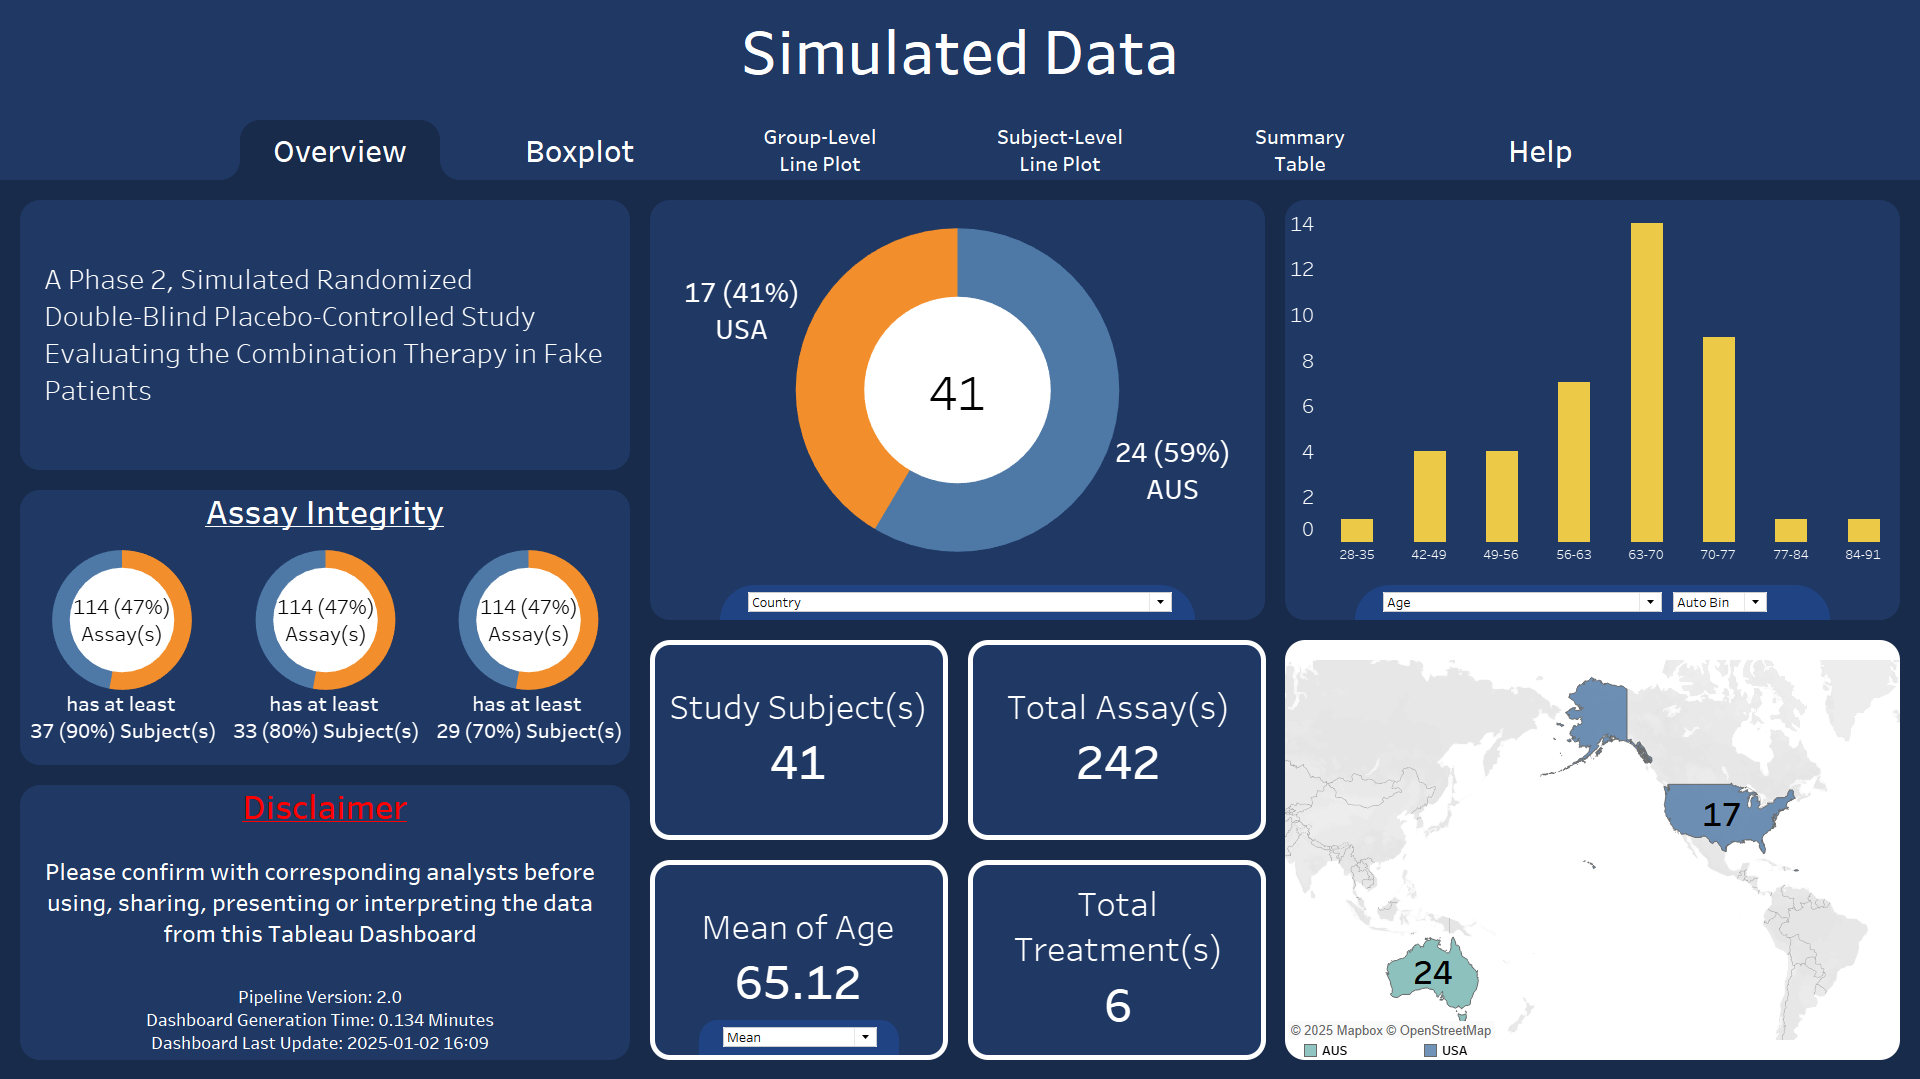

This screenshot's page, from the dashboard's own definition file:
{"tool":"tableau","page":{"name":"Page 1","canvas":[1920,1080],"ordinal":0},"visuals":[{"type":"image","param":"./Images/Page 1.png","box":[0,0,1920,1080]},{"type":"text","box":[0,0,1920,100]},{"type":"image","param":"./Images/Logo.png","box":[1740,20,160,140]},{"type":"dashboard-object","box":[260,120,160,60]},{"type":"dashboard-object","box":[500,120,160,60]},{"type":"dashboard-object","box":[740,120,160,60]},{"type":"dashboard-object","box":[980,120,160,60]},{"type":"dashboard-object","box":[1220,120,160,60]},{"type":"dashboard-object","box":[1460,120,160,60]},{"type":"worksheet","title":"Study Text","mark":"Automatic","box":[40,200,580,270]},{"type":"worksheet","title":"Parameter Donut","mark":"Pie","rows":["Number of Records","Number of Records"],"box":[650,200,615,380]},{"type":"worksheet","title":"Parameter Histogram","mark":"Bar","rows":["SUBJID"],"cols":["Calculation_1306888325410992129"],"box":[1285,200,615,380]},{"type":"worksheet","title":"Assay 90%","mark":"Pie","rows":["Calculation_712131693490360328","Calculation_712131693490360328"],"box":[20,490,204,260]},{"type":"text","box":[40,490,570,40]},{"type":"worksheet","title":"Assay 80%","mark":"Pie","rows":["Calculation_712131693490360328","Calculation_712131693490360328"],"box":[224,490,203,260]},{"type":"worksheet","title":"Assay 70%","mark":"Pie","rows":["Calculation_712131693490360328","Calculation_712131693490360328"],"box":[427,490,203,260]},{"type":"parameter","param":"[Parameters].[Parameter 9]","box":[1725,589,45,26]},{"type":"worksheet","title":"Customize Bin Method Right","mark":"Bar","rows":["Calculation_836825135763038209"],"box":[1770,589,45,26]},{"type":"parameter","param":"[Parameters].[Parameter 2]","box":[745,590,430,25]},{"type":"parameter","param":"[Parameters].[Parameter 1]","box":[1380,590,285,25]},{"type":"parameter","param":"[Parameters].[Parameter Assay (copy)]","box":[1670,590,100,25]},{"type":"worksheet","title":"Study Subject","mark":"Automatic","box":[655,640,285,195]},{"type":"worksheet","title":"Study Assay","mark":"Automatic","box":[975,640,285,195]},{"type":"worksheet","title":"Map","mark":"Multipolygon","box":[1285,660,615,380]},{"type":"text","box":[40,785,570,40]},{"type":"text","box":[40,825,560,155]},{"type":"worksheet","title":"Study Histogram","mark":"Automatic","box":[655,860,285,195]},{"type":"worksheet","title":"Study Treatment","mark":"Automatic","box":[975,860,285,195]},{"type":"text","box":[40,981,560,79]},{"type":"parameter","param":"[Parameters].[Parameter 10]","box":[720,1025,160,25]},{"type":"legend","title":"Map","param":"[federated.0bgs2np0ubmnyx161jsei1idfbdz].[none:Country:nk]","box":[1300,1040,580,20]}]}

Visuals, with their boxes in screenshot pixels (x1, y1, x2, y2), scaled from the page's 1920x1080 canvas onto the 1920x1079 screenshot:
image: <bbox>0, 0, 1919, 1078</bbox>
text: <bbox>0, 0, 1919, 100</bbox>
image: <bbox>1740, 20, 1900, 160</bbox>
dashboard-object: <bbox>260, 120, 420, 180</bbox>
dashboard-object: <bbox>500, 120, 660, 180</bbox>
dashboard-object: <bbox>740, 120, 900, 180</bbox>
dashboard-object: <bbox>980, 120, 1140, 180</bbox>
dashboard-object: <bbox>1220, 120, 1380, 180</bbox>
dashboard-object: <bbox>1460, 120, 1620, 180</bbox>
"Study Text" worksheet: <bbox>40, 200, 620, 470</bbox>
"Parameter Donut" worksheet (Pie marks): <bbox>650, 200, 1265, 579</bbox>
"Parameter Histogram" worksheet (Bar marks): <bbox>1285, 200, 1900, 579</bbox>
"Assay 90%" worksheet (Pie marks): <bbox>20, 490, 224, 749</bbox>
text: <bbox>40, 490, 610, 530</bbox>
"Assay 80%" worksheet (Pie marks): <bbox>224, 490, 427, 749</bbox>
"Assay 70%" worksheet (Pie marks): <bbox>427, 490, 630, 749</bbox>
parameter: <bbox>1725, 588, 1770, 614</bbox>
"Customize Bin Method Right" worksheet (Bar marks): <bbox>1770, 588, 1815, 614</bbox>
parameter: <bbox>745, 589, 1175, 614</bbox>
parameter: <bbox>1380, 589, 1665, 614</bbox>
parameter: <bbox>1670, 589, 1770, 614</bbox>
"Study Subject" worksheet: <bbox>655, 639, 940, 834</bbox>
"Study Assay" worksheet: <bbox>975, 639, 1260, 834</bbox>
"Map" worksheet (Multipolygon marks): <bbox>1285, 659, 1900, 1039</bbox>
text: <bbox>40, 784, 610, 824</bbox>
text: <bbox>40, 824, 600, 979</bbox>
"Study Histogram" worksheet: <bbox>655, 859, 940, 1054</bbox>
"Study Treatment" worksheet: <bbox>975, 859, 1260, 1054</bbox>
text: <bbox>40, 980, 600, 1059</bbox>
parameter: <bbox>720, 1024, 880, 1049</bbox>
"Map" legend: <bbox>1300, 1039, 1880, 1059</bbox>
